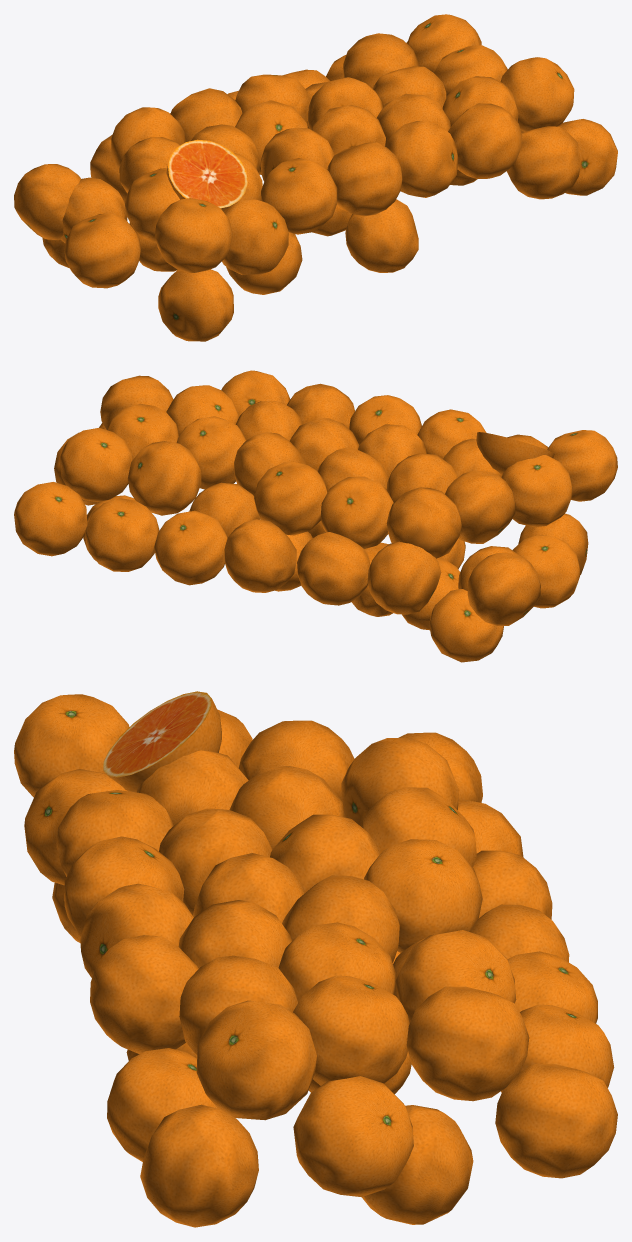
Rendered from orange_lowpoly.fbx.
3 renders of one model, top to bottom at view 1: azimuth 30°, elevation 25°; view 2: azimuth 150°, elevation 25°; view 3: azimuth 270°, elevation 25°, orthographic. The views are drawn at different scales.
Visible parts, largest first — view 1: orange_lowpoly; view 2: orange_lowpoly; view 3: orange_lowpoly.
Part boxes in pixels (x1,y1,x2,y2): orange_lowpoly: (14, 14, 617, 341); orange_lowpoly: (14, 370, 617, 662); orange_lowpoly: (14, 691, 617, 1227).
Bounding box in the file's own units: 110 × 33.96 × 69.84.
